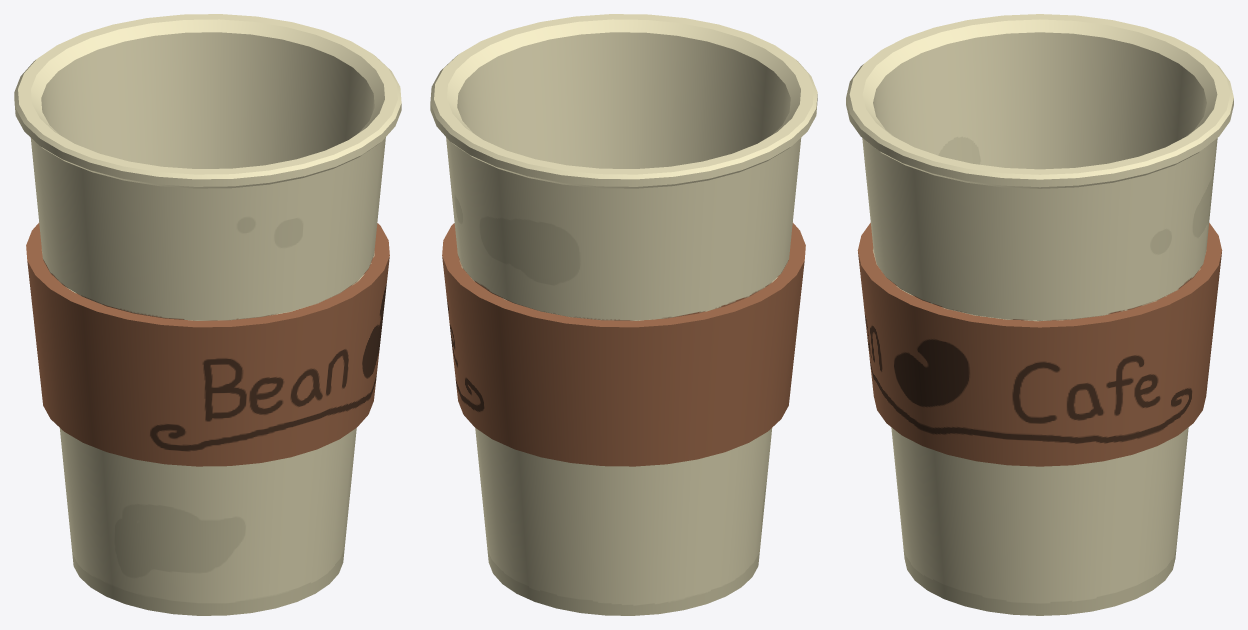
File: RS_ColdCoffee.fbx
The picture shows the model from 3 angles, left to right: view 1: azimuth 30°, elevation 25°; view 2: azimuth 150°, elevation 25°; view 3: azimuth 270°, elevation 25°; orthographic projection.
Parts seen in each view (by area): view 1: Cone; view 2: Cone; view 3: Cone.
Boxes of the visible parts, x1=… form: Cone: x1=14, y1=14, x2=401, y2=615; Cone: x1=430, y1=14, x2=817, y2=615; Cone: x1=846, y1=14, x2=1233, y2=615.
Bounding box in the file's own units: 8.59 × 11.34 × 8.59.
1 material, 1 textured.
